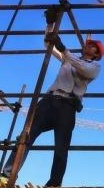boots: (95, 171, 104, 188)
gloves: (44, 30, 65, 50), (97, 23, 104, 50)
hard-hat: (84, 37, 104, 59)
